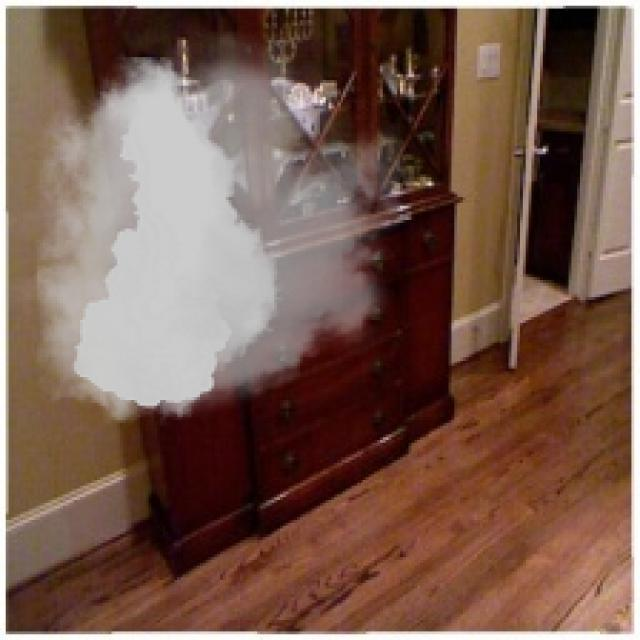Smoke: (2, 32, 428, 434)
